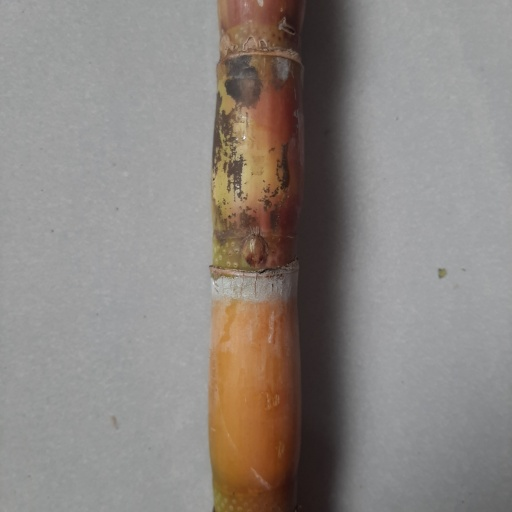Bud: (240, 235, 269, 271)
